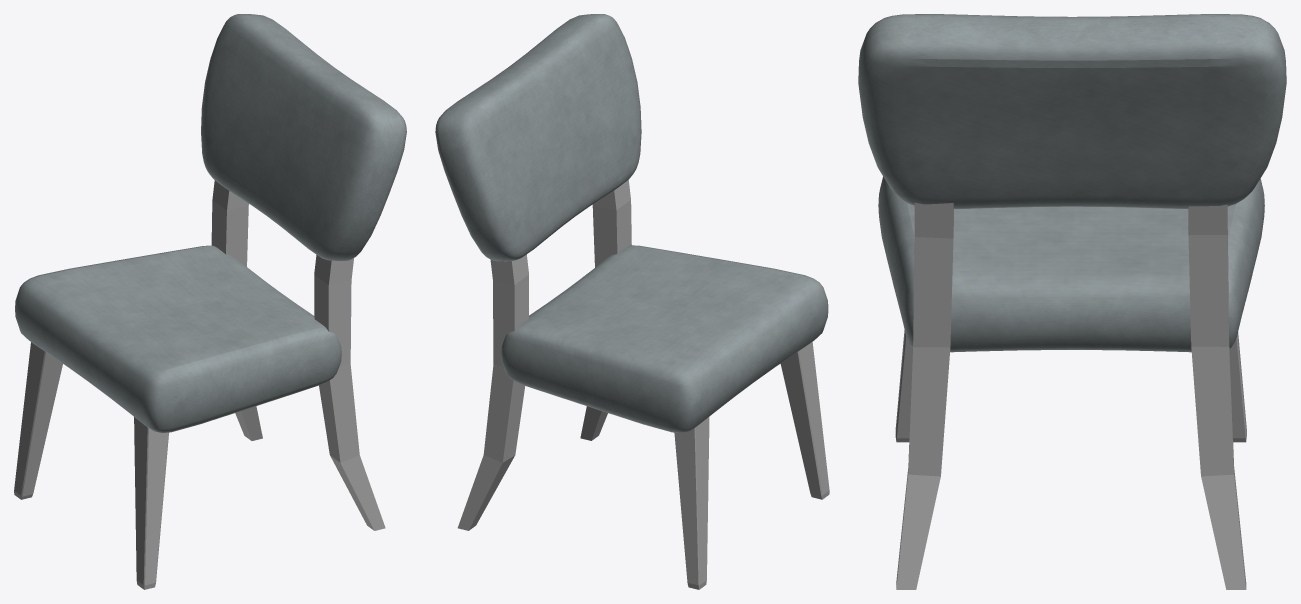
File: Chair Ura.fbx
3 views of the same model, side by side, from view 1: azimuth 30°, elevation 25°; view 2: azimuth 150°, elevation 25°; view 3: azimuth 270°, elevation 25° (orthographic). The views are drawn at different scales.
Visible parts, largest first — view 1: Cube.022; view 2: Cube.022; view 3: Cube.022.
Boxes of the visible parts, box(x1,y1,x2,y2) form: Cube.022: box(14, 14, 406, 589); Cube.022: box(435, 14, 829, 589); Cube.022: box(858, 14, 1286, 589).
Bounding box in the file's own units: 50.39 × 78.62 × 53.6.
